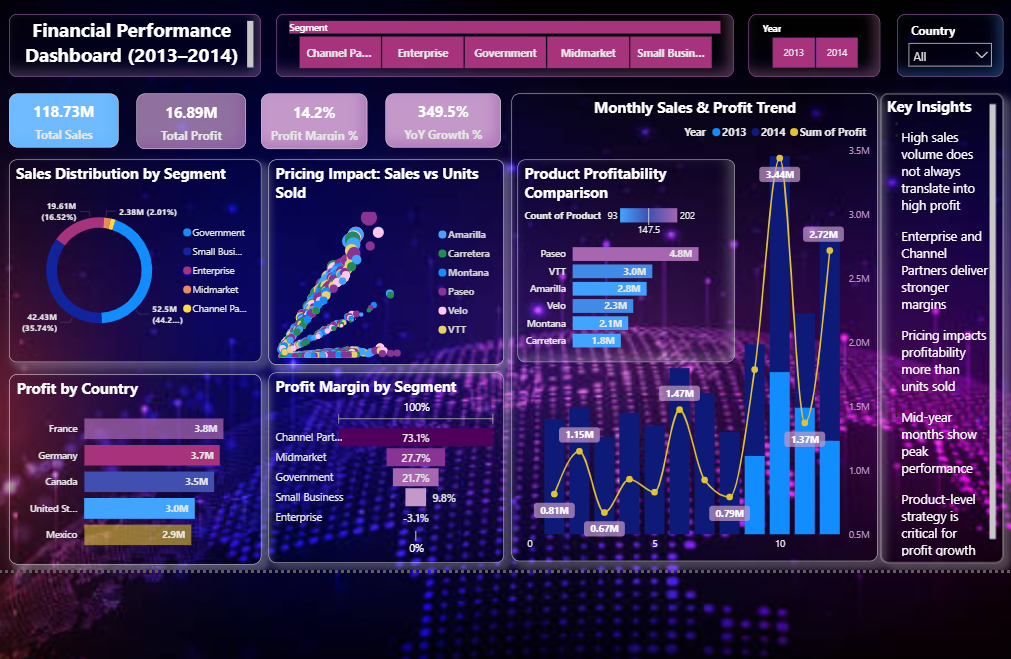

The dashboard page shown, as its layout file describes it:
{"tool":"powerbi","page":{"name":"Page 1","canvas":[1280,720],"ordinal":0},"visuals":[{"type":"card","fields":{"Values":["financials.Total Sales"]},"box":[15.1,119.1,138,68],"z":0},{"type":"card","fields":{"Values":["financials.Total Profit"]},"box":[175.7,119.1,138,69.9],"z":1000},{"type":"card","fields":{"Values":["financials.Profit Margin %"]},"box":[332.6,119.1,134.2,69.9],"z":2000},{"type":"card","fields":{"Values":["financials.YoY Growth %"]},"box":[489.5,119.1,145.5,68],"z":3000},{"type":"lineStackedColumnComboChart","title":"Monthly Sales & Profit Trend","fields":{"Y":["Sum(financials. Sales)"],"Y2":["Sum(financials.Profit)"],"Series":["financials.Year"],"Category":["financials.Month Number"]},"box":[648.2,119.1,461.1,589.6],"z":4000},{"type":"barChart","title":"Profit by Country","fields":{"Category":["financials.Country"],"Y":["Sum(financials.Profit)"]},"box":[15.2,472.2,317.9,239.9],"z":5000},{"type":"barChart","title":"Product Profitability Comparison","fields":{"Category":["financials.Product"],"Y":["Sum(financials.Profit)"]},"box":[654.9,201.8,274.2,255.1],"z":6000},{"type":"textbox","box":[15.1,18.9,317.5,79.4],"z":7000},{"type":"donutChart","title":"Sales Distribution by Segment","fields":{"Category":["financials.Segment"],"Y":["Sum(financials. Sales)"]},"box":[15.2,201.8,317.9,255.1],"z":8000},{"type":"funnel","title":"Profit Margin by Segment","fields":{"Category":["financials.Segment"],"Y":["financials.Profit Margin %"]},"box":[342.7,470.2,297,239.9],"z":9000},{"type":"scatterChart","title":"Pricing Impact: Sales vs Units Sold","fields":{"Category":["financials. Sales"],"X":["Sum(financials.Units Sold)"],"Size":["Sum(financials.Profit)"],"Y":["Sum(financials. Sales)"],"Series":["financials.Product"]},"box":[342.7,201.8,297,258.9],"z":10000},{"type":"slicer","fields":{"Values":["financials.Year"]},"box":[946.8,18.9,166.3,79.4],"z":11000},{"type":"slicer","fields":{"Values":["financials.Country"]},"box":[1133.9,18.9,134.2,79.4],"z":12000},{"type":"slicer","fields":{"Values":["financials.Segment"]},"box":[351.5,18.9,576.4,79.4],"z":13000},{"type":"textbox","box":[1113.1,119.1,155,591.5],"z":14001}]}

Visuals, with their boxes in screenshot pixels (x1, y1, x2, y2):
card - financials.Total Sales: 20 109 127 162
card - financials.Total Profit: 145 109 252 163
card - financials.Profit Margin %: 267 109 371 163
card - financials.YoY Growth %: 389 109 503 162
"Monthly Sales & Profit Trend" lineStackedColumnComboChart: 513 109 872 568
"Profit by Country" barChart: 20 384 267 570
"Product Profitability Comparison" barChart: 518 173 732 372
textbox: 20 31 267 92
"Sales Distribution by Segment" donutChart: 20 173 267 372
"Profit Margin by Segment" funnel: 275 382 506 569
"Pricing Impact: Sales vs Units Sold" scatterChart: 275 173 506 375
slicer - financials.Year: 745 31 875 92
slicer - financials.Country: 891 31 996 92
slicer - financials.Segment: 282 31 731 92
textbox: 875 109 996 569
